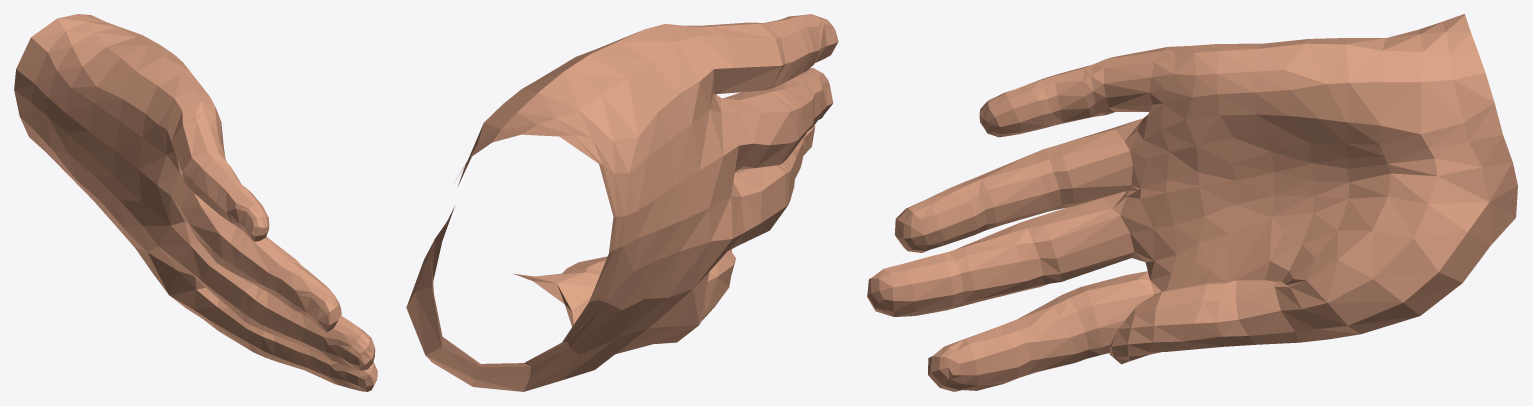
Rendered from frame_053.glb.
The picture shows the model from 3 angles, left to right: view 1: azimuth 30°, elevation 25°; view 2: azimuth 150°, elevation 25°; view 3: azimuth 270°, elevation 25°; orthographic projection. The views are drawn at different scales.
Visible parts, largest first — view 1: world; view 2: world; view 3: world.
Boxes of the visible parts, x1,y1,x2,y2 form: world: [14, 14, 377, 391]; world: [406, 14, 838, 391]; world: [867, 14, 1517, 391].
Bounding box in the file's own units: 0.0593 × 0.0887 × 0.1671.
